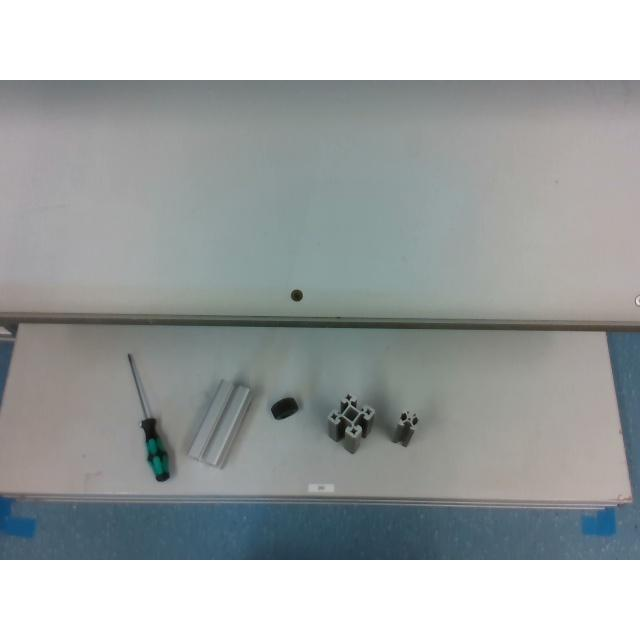F20_20_B: (392, 410, 418, 446)
M20: (270, 396, 298, 420)
S40_40_B: (328, 393, 374, 453)
S40_40_G: (188, 381, 252, 467)
Screwdriver: (130, 356, 170, 480)
